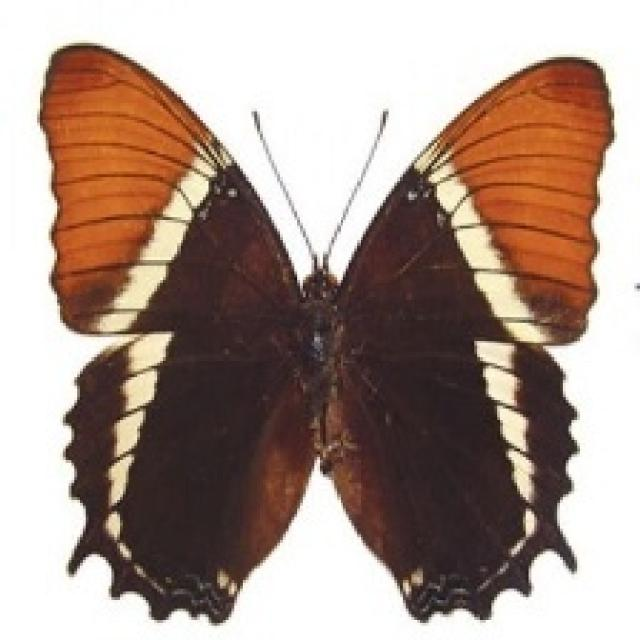butterfly: (35, 40, 614, 626)
